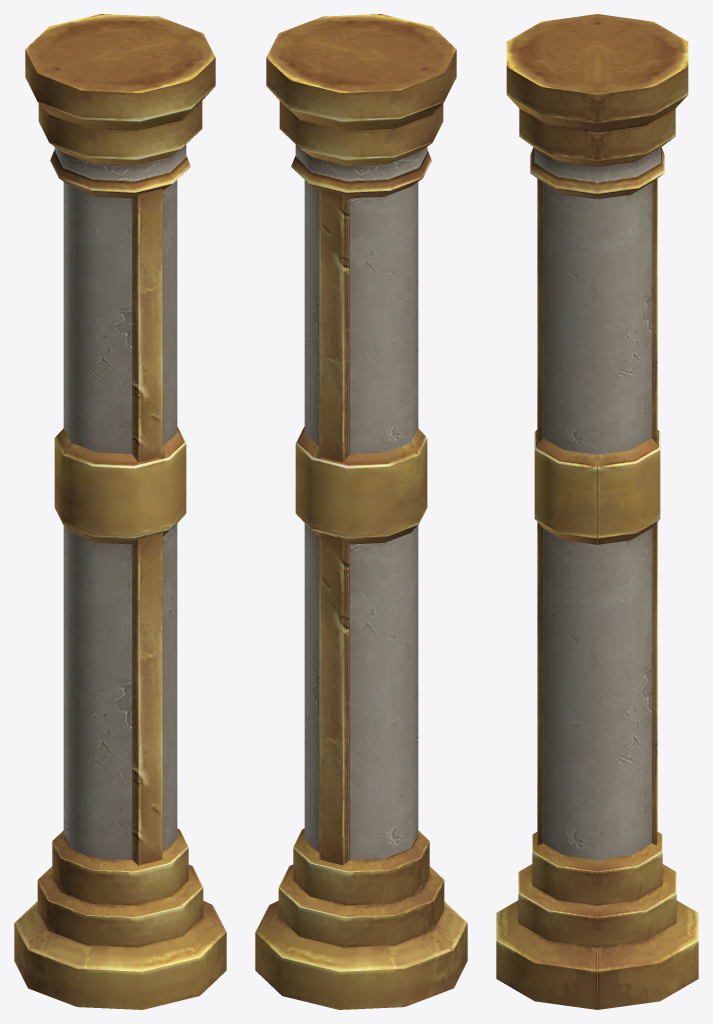
Rendered from G_zhuzi002.fbx.
The picture shows the model from 3 angles, left to right: view 1: azimuth 30°, elevation 25°; view 2: azimuth 150°, elevation 25°; view 3: azimuth 270°, elevation 25°; orthographic projection.
Visible parts, largest first — view 1: G_zhuzi002; view 2: G_zhuzi002; view 3: G_zhuzi002.
Part boxes in pixels (bbox=[...]): G_zhuzi002: bbox=[14, 14, 226, 1009]; G_zhuzi002: bbox=[255, 14, 467, 1009]; G_zhuzi002: bbox=[496, 14, 698, 1009].
Size of the model in its own units: 76.03 by 359 by 72.31.
